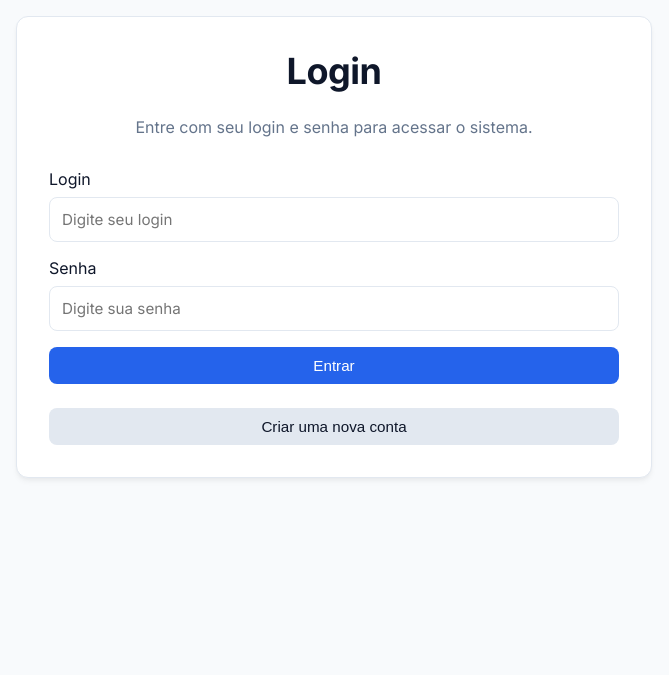
Test: E2E 3 - Cadastro de novo usuário › deve navegar para o formulário de criação de conta
Click the button "Criar uma nova conta". click: (334, 427)
box: top-left (49, 408), bottom-right (619, 445)
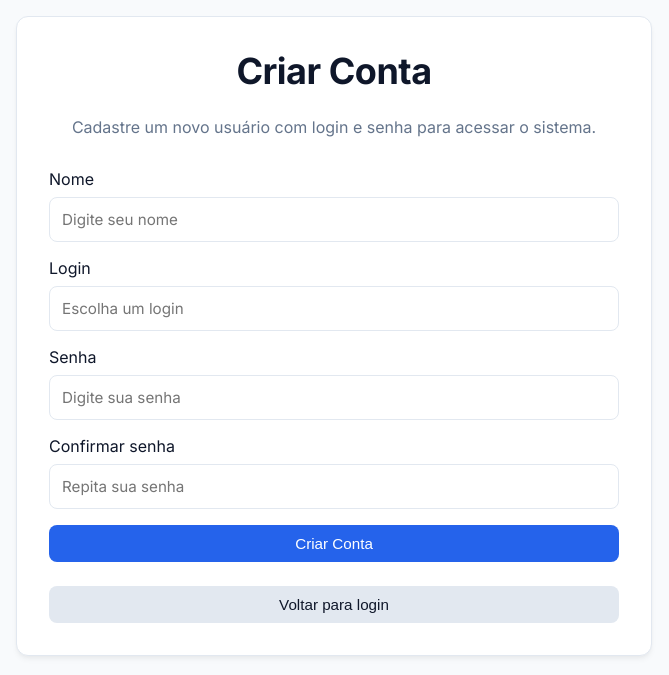
Expected: the field with placeholder "Digite seu nome" is shown, top-left (49, 197), bottom-right (619, 242)
Expected: the heading "Criar Conta" is shown, top-left (236, 49), bottom-right (432, 93)
